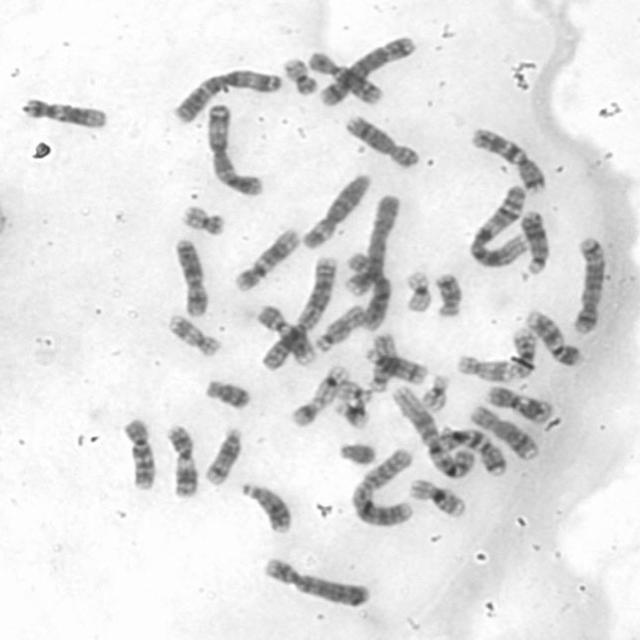A1: (390, 385, 478, 480), (468, 184, 529, 270)
A2: (258, 254, 340, 373), (348, 446, 418, 529)
A3: (170, 68, 282, 126), (205, 104, 268, 198)
B4: (342, 193, 402, 298), (258, 557, 374, 610)
B5: (316, 35, 419, 108), (570, 237, 610, 334)
C10: (304, 50, 386, 106), (119, 417, 157, 492)
C11: (485, 384, 553, 425), (166, 423, 200, 500)
C12: (232, 225, 300, 294), (19, 96, 110, 130)
C6: (302, 171, 372, 251), (344, 252, 394, 333)
C7: (469, 126, 549, 195), (434, 428, 508, 480)
C8: (342, 114, 422, 170), (468, 404, 540, 461)
C9: (250, 302, 318, 367), (523, 308, 583, 367)
D13: (238, 480, 294, 536), (518, 210, 551, 284)
D14: (362, 346, 428, 387), (202, 424, 244, 486)
D15: (310, 303, 366, 357), (366, 332, 398, 394)
E16: (408, 477, 471, 519), (509, 329, 537, 378)
E17: (166, 312, 222, 358), (454, 351, 512, 384)
E18: (202, 378, 254, 414), (434, 272, 464, 318)
F19: (309, 362, 352, 408), (404, 271, 436, 315)
F20: (280, 56, 320, 96), (180, 204, 224, 237)
G21: (288, 396, 326, 428), (334, 401, 370, 430)
G22: (418, 372, 452, 412), (334, 378, 374, 403)
X: (173, 239, 210, 319)
Y: (339, 442, 376, 467)
